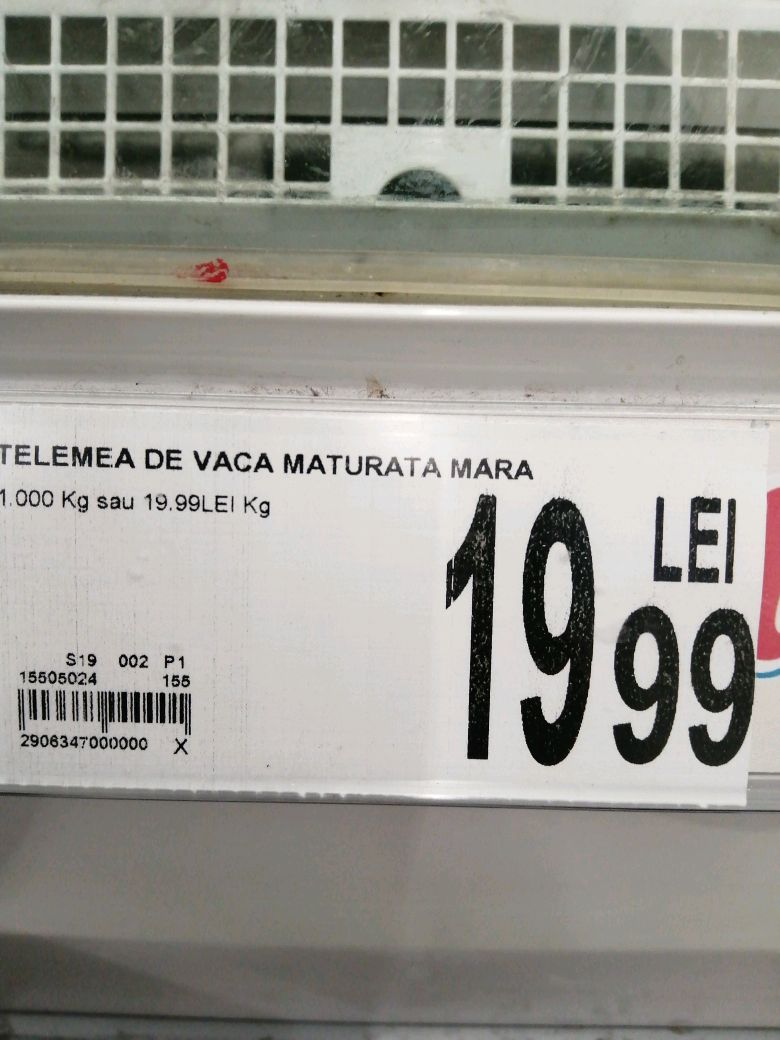price_bani: (609, 593, 761, 776)
price_lei: (433, 490, 602, 774)
price_tag: (3, 391, 769, 829)
product_id: (13, 732, 156, 755)
product_name: (1, 435, 558, 483)
